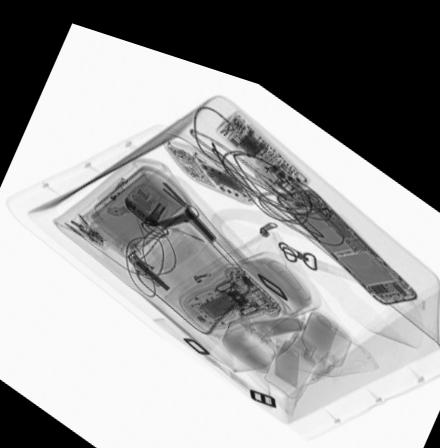Lighter: (104, 164, 133, 195)
